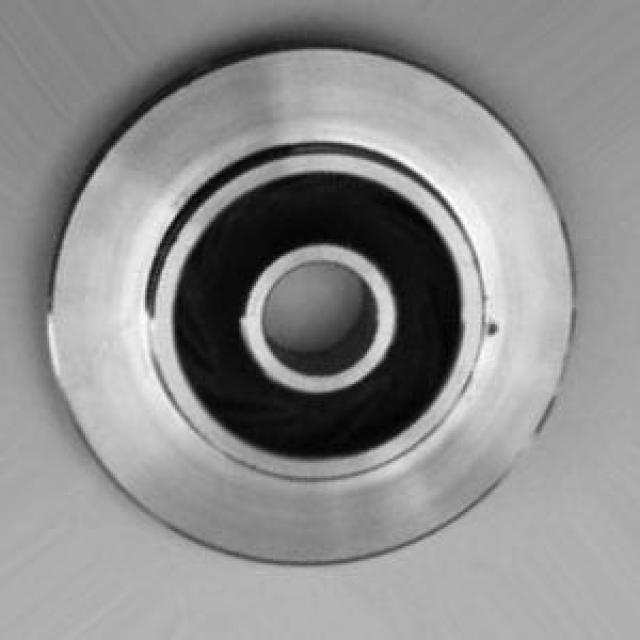Defect: (482, 312, 505, 348)
